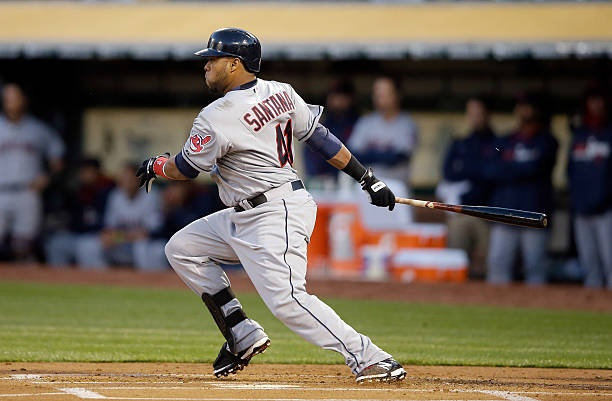bita: (384, 193, 553, 233)
